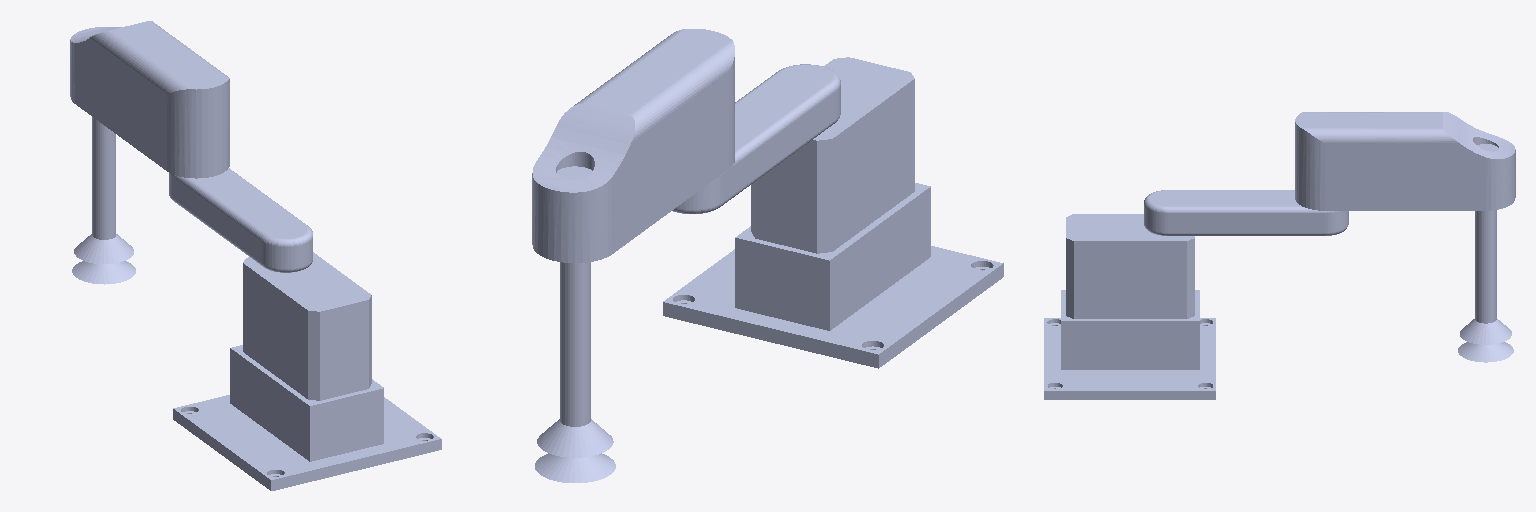
robot.urdf — scara:
<?xml version="1.0" encoding="utf-8" ?>
<!-- This URDF was automatically created by SolidWorks to URDF Exporter! Originally created by [author] ([email redacted]) 
     Commit Version: 1.6.0-4-g7f85cfe  Build Version: 1.6.7995.38578
     For more information, please see http://wiki.ros.org/sw_urdf_exporter -->
<robot name="scara">
    <link name="base_link">
        <inertial>
            <origin xyz="4.9228E-19 0.057416 0.00026601" rpy="0 0 0" />
            <mass value="1.2659" />
            <inertia ixx="0.0041167" ixy="1.7022E-19" ixz="-1.4674E-19" iyy="0.0027026" iyz="-2.6126E-05" izz="0.0031757" />
        </inertial>
        <visual>
            <origin xyz="0 0 0" rpy="0 0 0" />
            <geometry>
                <mesh filename="package://scara/meshes/base_link.STL" />
            </geometry>
            <material name="">
                <color rgba="0.79216 0.81961 0.93333 1" />
            </material>
        </visual>
        <collision>
            <origin xyz="0 0 0" rpy="0 0 0" />
            <geometry>
                <mesh filename="package://scara/meshes/base_link.STL" />
            </geometry>
        </collision>
    </link>
    <link name="L1">
        <inertial>
            <origin xyz="0.067038 0.023797 -3.8903E-18" rpy="0 0 0" />
            <mass value="0.23993" />
            <inertia ixx="5.7474E-05" ixy="-5.325E-06" ixz="3.6951E-20" iyy="0.00068723" iyz="-2.0839E-21" izz="0.00066974" />
        </inertial>
        <visual>
            <origin xyz="0 0 0" rpy="0 0 0" />
            <geometry>
                <mesh filename="package://scara/meshes/L1.STL" />
            </geometry>
            <material name="">
                <color rgba="0.79216 0.81961 0.93333 1" />
            </material>
        </visual>
        <collision>
            <origin xyz="0 0 0" rpy="0 0 0" />
            <geometry>
                <mesh filename="package://scara/meshes/L1.STL" />
            </geometry>
        </collision>
    </link>
    <joint name="J1" type="revolute">
        <origin xyz="0 0.035 0.13" rpy="1.5708 0 1.5708" />
        <parent link="base_link" />
        <child link="L1" />
        <axis xyz="0 1 0" />
        <limit lower="-3.141" upper="3.141" effort="5" velocity="1" />
    </joint>
    <link name="L2">
        <inertial>
            <origin xyz="0.065399 0.047234 -3.984E-08" rpy="0 0 0" />
            <mass value="0.76354" />
            <inertia ixx="0.00057749" ixy="8.8165E-05" ixz="-6.814E-10" iyy="0.0023115" iyz="8.1844E-10" izz="0.00252" />
        </inertial>
        <visual>
            <origin xyz="0 0 0" rpy="0 0 0" />
            <geometry>
                <mesh filename="package://scara/meshes/L2.STL" />
            </geometry>
            <material name="">
                <color rgba="0.79216 0.81961 0.93333 1" />
            </material>
        </visual>
        <collision>
            <origin xyz="0 0 0" rpy="0 0 0" />
            <geometry>
                <mesh filename="package://scara/meshes/L2.STL" />
            </geometry>
        </collision>
    </link>
    <joint name="J2" type="revolute">
        <origin xyz="0.14577 0.03 0" rpy="0 0 0" />
        <parent link="L1" />
        <child link="L2" />
        <axis xyz="0 1 0" />
        <limit lower="-3.141" upper="3.141" effort="5" velocity="1" />
    </joint>
    <link name="L3">
        <inertial>
            <origin xyz="5.5511E-17 -0.025 7.9337E-17" rpy="0 0 0" />
            <mass value="0.0088357" />
            <inertia ixx="2.4068E-06" ixy="-8.4801E-38" ixz="7.053E-38" iyy="1.1321E-06" iyz="-4.208E-22" izz="2.4068E-06" />
        </inertial>
        <visual>
            <origin xyz="0 0 0" rpy="0 0 0" />
            <geometry>
                <mesh filename="package://scara/meshes/L3.STL" />
            </geometry>
            <material name="">
                <color rgba="0.79216 0.81961 0.93333 1" />
            </material>
        </visual>
        <collision>
            <origin xyz="0 0 0" rpy="0 0 0" />
            <geometry>
                <mesh filename="package://scara/meshes/L3.STL" />
            </geometry>
        </collision>
    </link>
    <joint name="J3" type="revolute">
        <origin xyz="0.15 0.01 0" rpy="0 0 3.1416" />
        <parent link="L2" />
        <child link="L3" />
        <axis xyz="0 1 0" />
        <limit lower="-3.141" upper="3.141" effort="5" velocity="1" />
    </joint>
    <link name="L4">
        <inertial>
            <origin xyz="-2.7756E-16 0.06838 2.6195E-17" rpy="0 0 0" />
            <mass value="0.079259" />
            <inertia ixx="0.00031643" ixy="2.2941E-21" ixz="0" iyy="7.481E-06" iyz="-7.5439E-20" izz="0.00031643" />
        </inertial>
        <visual>
            <origin xyz="0 0 0" rpy="0 0 0" />
            <geometry>
                <mesh filename="package://scara/meshes/L4.STL" />
            </geometry>
            <material name="">
                <color rgba="0.79216 0.81961 0.93333 1" />
            </material>
        </visual>
        <collision>
            <origin xyz="0 0 0" rpy="0 0 0" />
            <geometry>
                <mesh filename="package://scara/meshes/L4.STL" />
            </geometry>
        </collision>
    </link>
    <joint name="J4" type="prismatic">
        <origin xyz="0 0 0" rpy="0 0 0" />
        <parent link="L3" />
        <child link="L4" />
        <axis xyz="0 1 0" />
        <limit lower="-0.12" upper="0" effort="5" velocity="1" />
    </joint>
    <transmission name="trans_J1">
        <type>transmission_interface/SimpleTransmission</type>
        <joint name="J1">
            <hardwareInterface>hardware_interface/PositionJointInterface</hardwareInterface>
        </joint>
        <actuator name="J1_motor">
            <hardwareInterface>hardware_interface/PositionJointInterface</hardwareInterface>
            <mechanicalReduction>1</mechanicalReduction>
        </actuator>
    </transmission>
    <transmission name="trans_J2">
        <type>transmission_interface/SimpleTransmission</type>
        <joint name="J2">
            <hardwareInterface>hardware_interface/PositionJointInterface</hardwareInterface>
        </joint>
        <actuator name="J2_motor">
            <hardwareInterface>hardware_interface/PositionJointInterface</hardwareInterface>
            <mechanicalReduction>1</mechanicalReduction>
        </actuator>
    </transmission>
    <transmission name="trans_J3">
        <type>transmission_interface/SimpleTransmission</type>
        <joint name="J3">
            <hardwareInterface>hardware_interface/PositionJointInterface</hardwareInterface>
        </joint>
        <actuator name="J3_motor">
            <hardwareInterface>hardware_interface/PositionJointInterface</hardwareInterface>
            <mechanicalReduction>1</mechanicalReduction>
        </actuator>
    </transmission>
    <transmission name="trans_J4">
        <type>transmission_interface/SimpleTransmission</type>
        <joint name="J4">
            <hardwareInterface>hardware_interface/PositionJointInterface</hardwareInterface>
        </joint>
        <actuator name="J4_motor">
            <hardwareInterface>hardware_interface/PositionJointInterface</hardwareInterface>
            <mechanicalReduction>1</mechanicalReduction>
        </actuator>
    </transmission>
    <gazebo>
        <plugin name="control" filename = "libgazebo_ros_control">
        </plugin>
    </gazebo>
    <gazebo>
      <plugin name = "joint_state_publisher" filename = "libgazebo_ros_joint_state_publisher.so">
      <jointName>J1, J2, J3, J4, J5 </jointName>
      </plugin>
    </gazebo>
</robot>

--- Render facts (derived) ---
3 views of the same robot in one strip: view 1: azimuth 30°, elevation 25°; view 2: azimuth 150°, elevation 25°; view 3: azimuth 270°, elevation 25° (orthographic).
Robot: scara — 5 links, 4 joints (3 revolute, 1 prismatic); root link base_link; default pose: every joint at zero.
Visible links, largest first — view 1: base_link, L2, L1, L4; view 2: base_link, L2, L1, L4; view 3: base_link, L2, L1, L4.
Link boxes in pixels (x1=…): base_link: x1=173, y1=252, x2=441, y2=490; L2: x1=70, y1=21, x2=229, y2=178; L1: x1=169, y1=168, x2=312, y2=272; L4: x1=72, y1=117, x2=135, y2=284; base_link: x1=663, y1=57, x2=1003, y2=368; L2: x1=532, y1=29, x2=734, y2=262; L1: x1=672, y1=64, x2=840, y2=213; L4: x1=535, y1=168, x2=615, y2=482; base_link: x1=1044, y1=214, x2=1215, y2=399; L2: x1=1295, y1=112, x2=1515, y2=210; L1: x1=1144, y1=190, x2=1348, y2=235; L4: x1=1458, y1=145, x2=1513, y2=362.
Bounding box of the posed robot: 0.16 × 0.4383 × 0.25 m (x, y, z).
Meshes: 5 distinct files referenced, 5 mesh visuals loaded (5 binary STL).